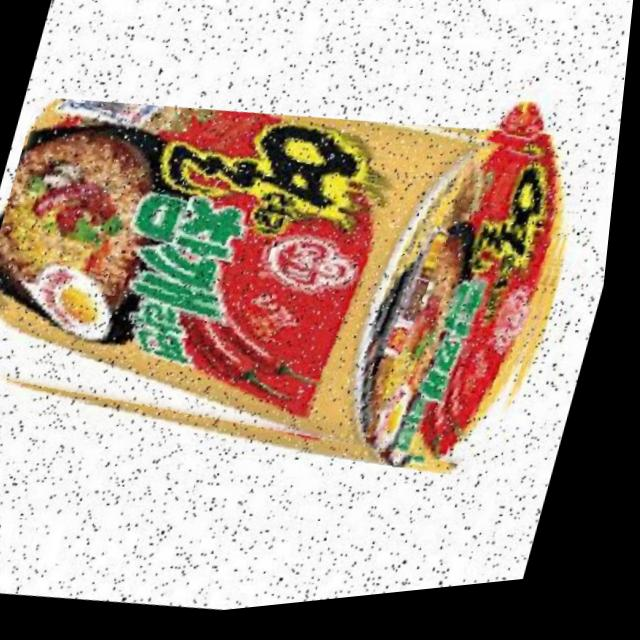Miscellaneous: (0, 51, 609, 529)
